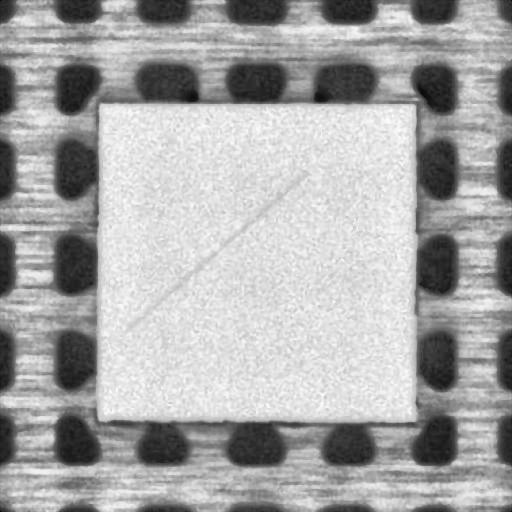DIE_CRACK: (124, 172, 306, 331)
